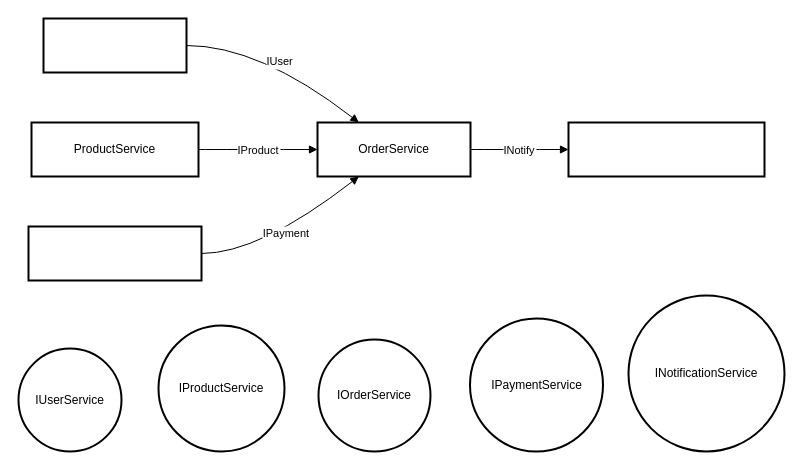
This 802x469 diagram has some shape labels left out. The shapes that lost their labels are listed below. From the top down, each one's box as (x1, y1, x2, y2) in pixels, then its label:
(42, 17, 187, 73): UserService
(567, 121, 765, 177): NotificationService
(27, 225, 202, 281): PaymentService
